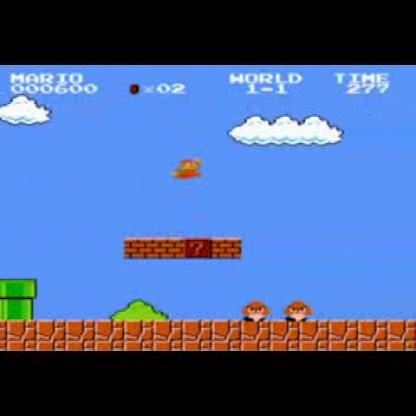Goomba: (241, 299, 273, 323), (288, 301, 316, 318)
